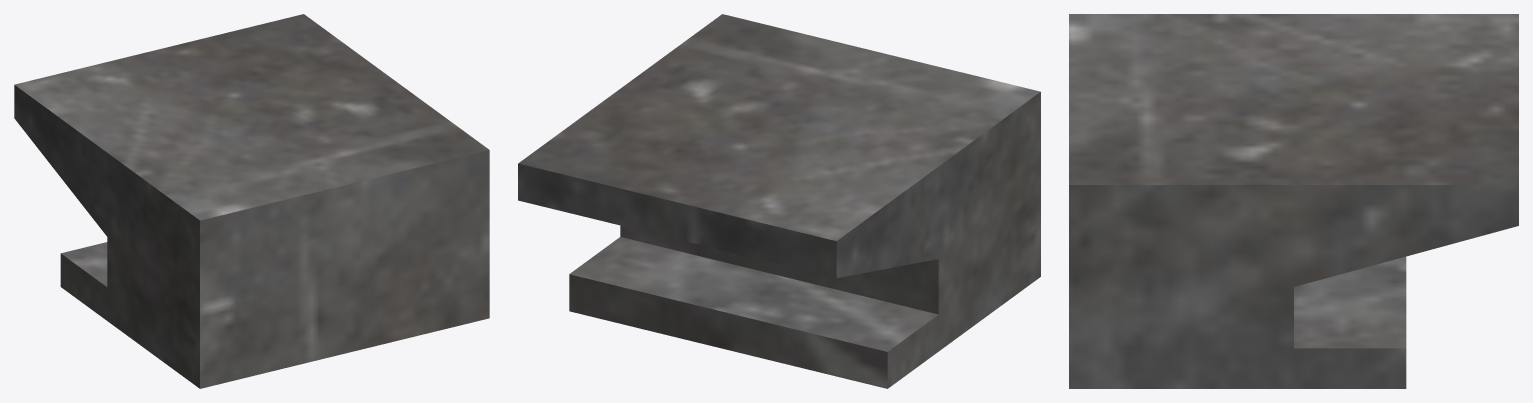
Rendered from ConsoleModuleCore.fbx.
3 renders of one model, left to right at view 1: azimuth 30°, elevation 25°; view 2: azimuth 150°, elevation 25°; view 3: azimuth 270°, elevation 25°, orthographic. The views are drawn at different scales.
Parts seen in each view (by area): view 1: Console Module Core; view 2: Console Module Core; view 3: Console Module Core.
Boxes of the visible parts, x1,y1,x2,y2 form: Console Module Core: [14, 14, 489, 388]; Console Module Core: [518, 14, 1040, 388]; Console Module Core: [1069, 14, 1518, 388].
Bounding box in the file's own units: 2.16 × 2.4 × 1.2.
1 material, 1 textured.
